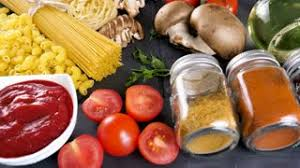Tomato: (100, 114, 143, 150), (126, 85, 165, 120)
